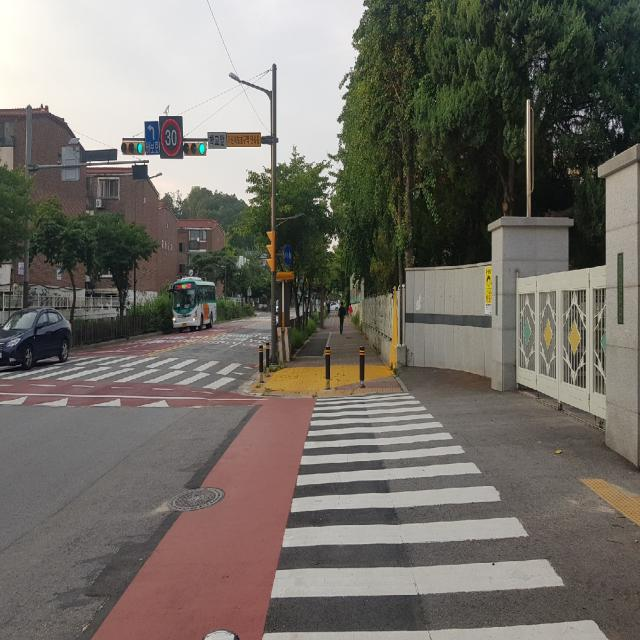횡단보도: (261, 395, 609, 638), (5, 352, 248, 391)
